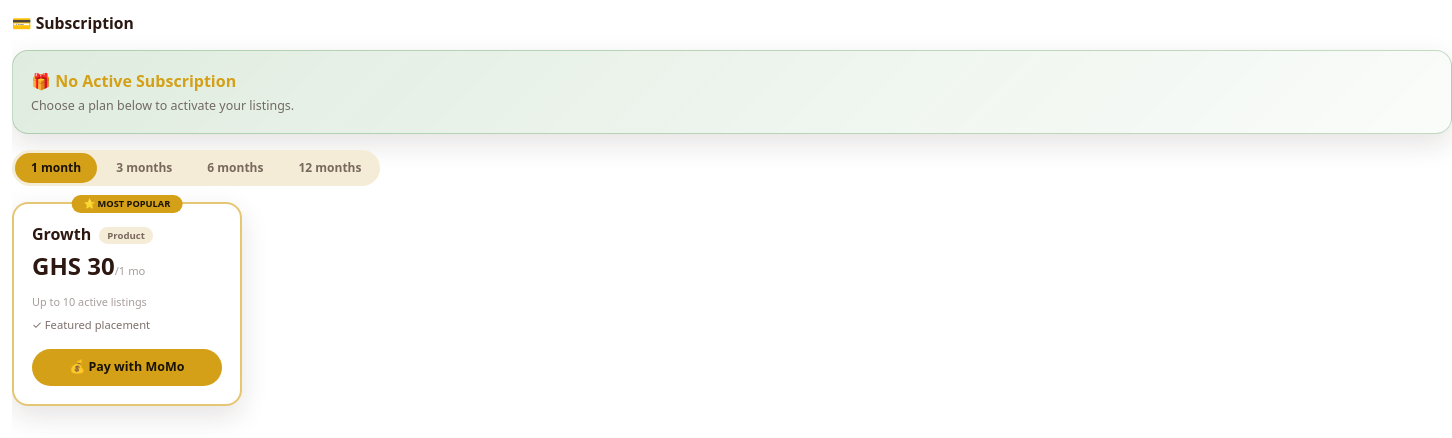
Scenario: SubscriptionPanel cycle-length selector › selecting "3 months" on a GHS30/mo plan shows GHS90
Expected: the text "Growth" is shown, [32, 223, 91, 245]
Click the button "3 months" at (144, 168), box [100, 153, 188, 183]
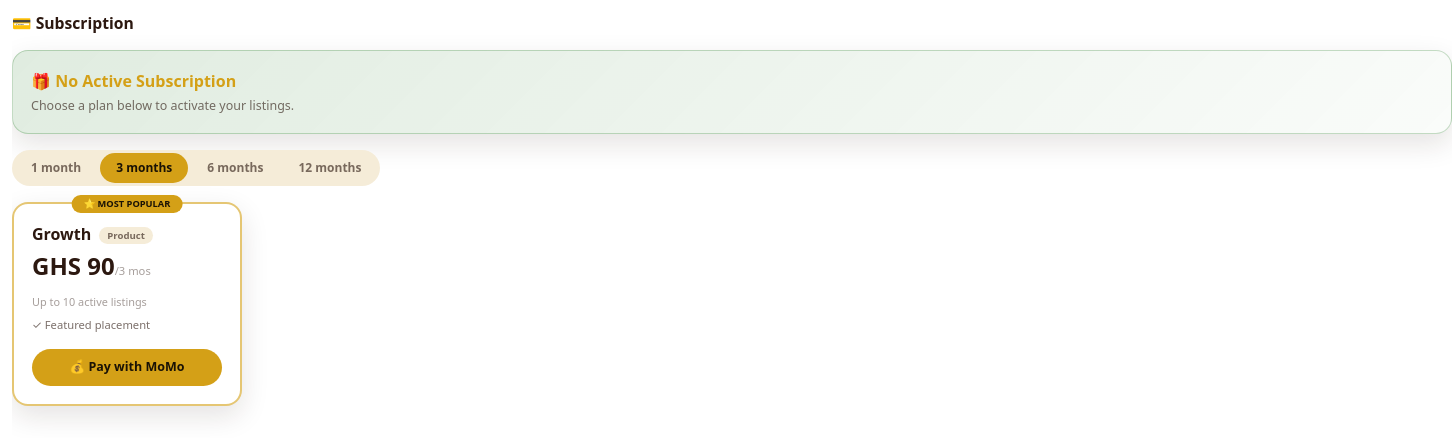
Now the text "GHS 90" is shown, box [32, 249, 151, 282]
